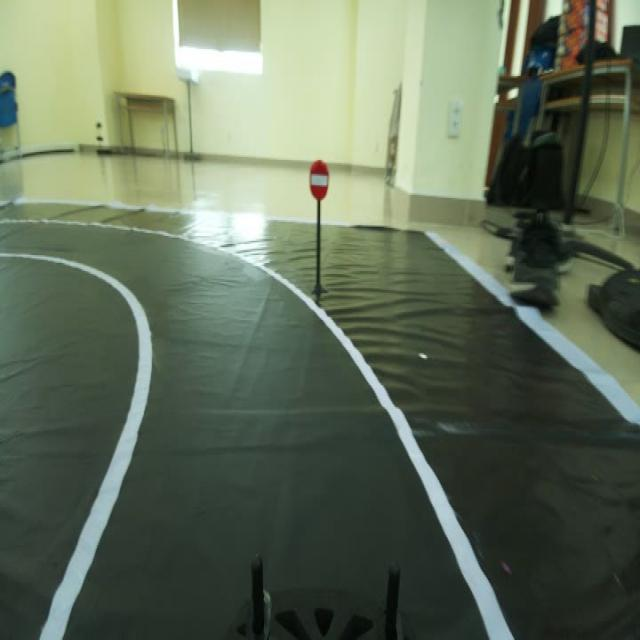no_entry: (304, 147, 332, 205)
